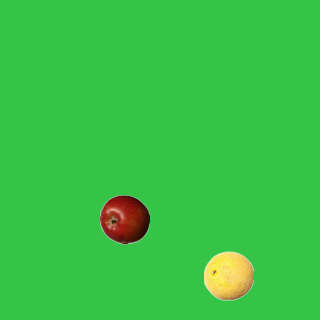Apple Braeburn: (99, 194, 149, 244)
Cantaloupe 1: (203, 250, 253, 300)
